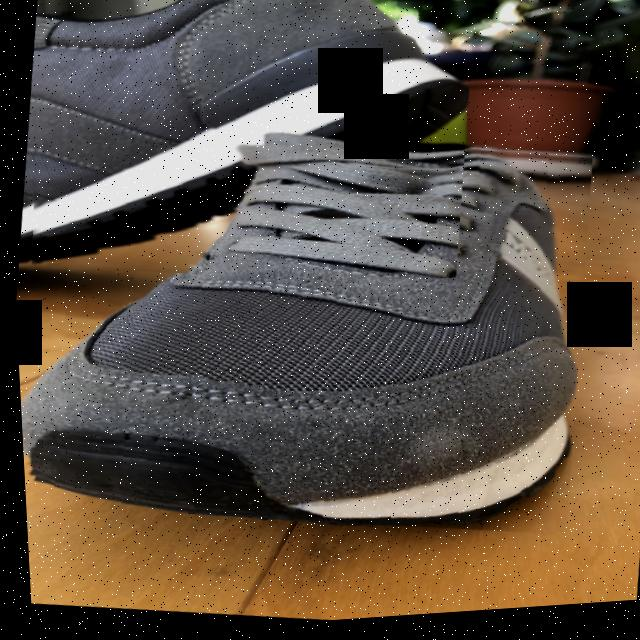shoe: (5, 90, 606, 570), (5, 0, 488, 317)
